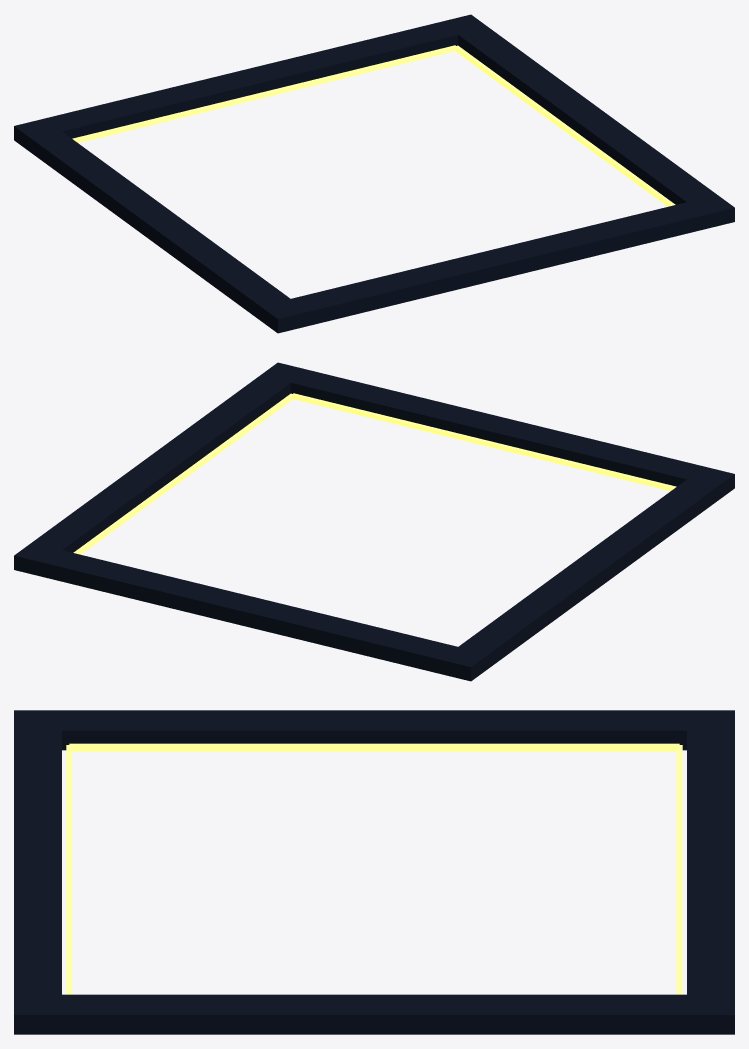
The model's file is Socket.fbx.
3 views of the same model, one above another, from view 1: azimuth 30°, elevation 25°; view 2: azimuth 150°, elevation 25°; view 3: azimuth 270°, elevation 25° (orthographic). The views are drawn at different scales.
Parts seen in each view (by area): view 1: KIT_Socket_Mesh; view 2: KIT_Socket_Mesh; view 3: KIT_Socket_Mesh.
Part boxes in pixels (<box>): KIT_Socket_Mesh: <box>14,14,734,333</box>; KIT_Socket_Mesh: <box>14,362,734,681</box>; KIT_Socket_Mesh: <box>14,710,734,1034</box>.
Bounding box in the file's own units: 3 × 0.09 × 3.
